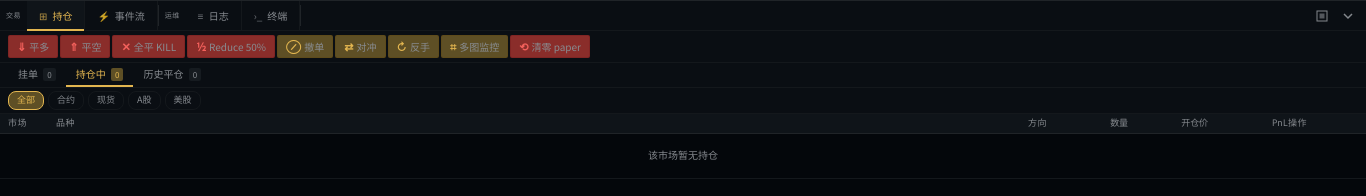
it: B1 杀假 UI — drawer 去掉假「Agent 推理」面 › 点「日志」tab → 明说「日志功能未规划」(不是「端点暂未实现」)
Click the button with class "dtab" showing "≡ 日志".
click(214, 16)  # box [186, 1, 242, 30]
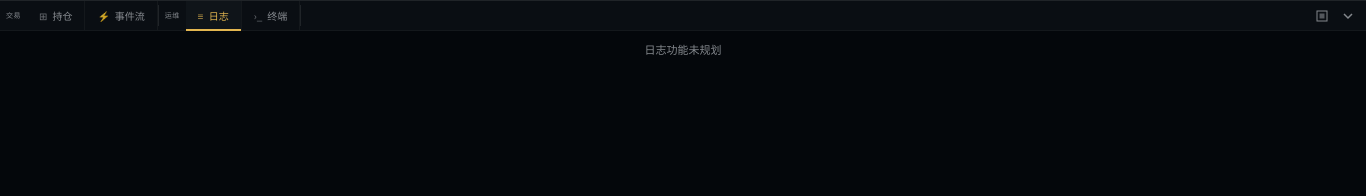
Result: the text "日志功能未规划" is shown at [644, 43, 722, 57]
